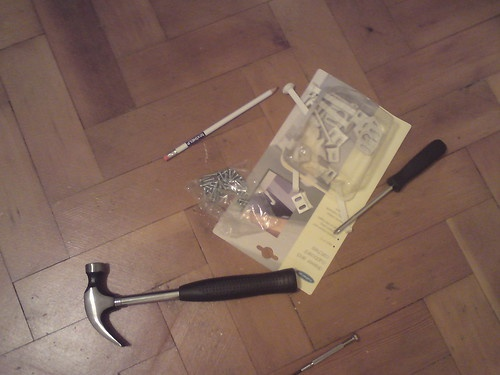hammer: (84, 261, 301, 348)
